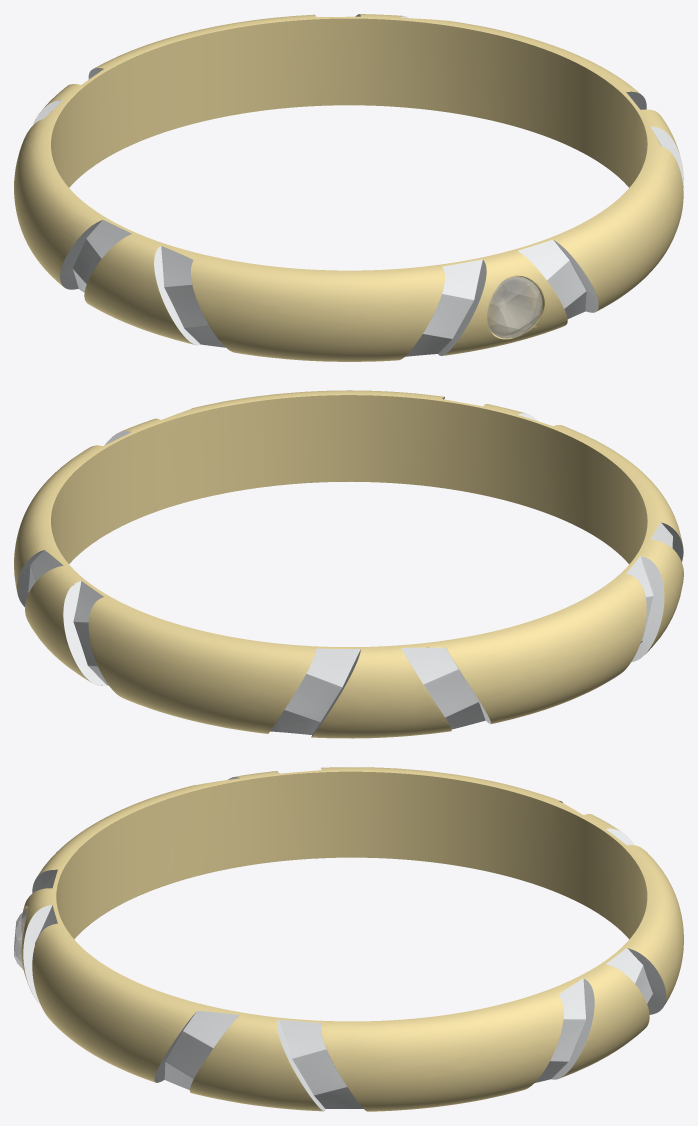
3 views of the same model, one above another, from view 1: azimuth 30°, elevation 25°; view 2: azimuth 150°, elevation 25°; view 3: azimuth 270°, elevation 25° (orthographic).
Parts seen in each view (by area): view 1: Base_Metal, Engraving_Metal, Finishing_Metal, Diamond_Metal; view 2: Base_Metal, Engraving_Metal, Finishing_Metal; view 3: Base_Metal, Engraving_Metal, Finishing_Metal.
Part boxes in pixels (box(x1,y1,x2,y2)): Base_Metal: box(14, 14, 683, 361); Engraving_Metal: box(51, 18, 647, 187); Finishing_Metal: box(33, 14, 683, 356); Diamond_Metal: box(487, 276, 542, 338); Base_Metal: box(14, 390, 683, 738); Engraving_Metal: box(51, 395, 647, 647); Finishing_Metal: box(17, 397, 683, 736); Base_Metal: box(21, 767, 683, 1111); Engraving_Metal: box(56, 771, 647, 939); Finishing_Metal: box(23, 771, 665, 1111).
Bounding box in the file's own units: 2.8 × 0.4001 × 2.82.
